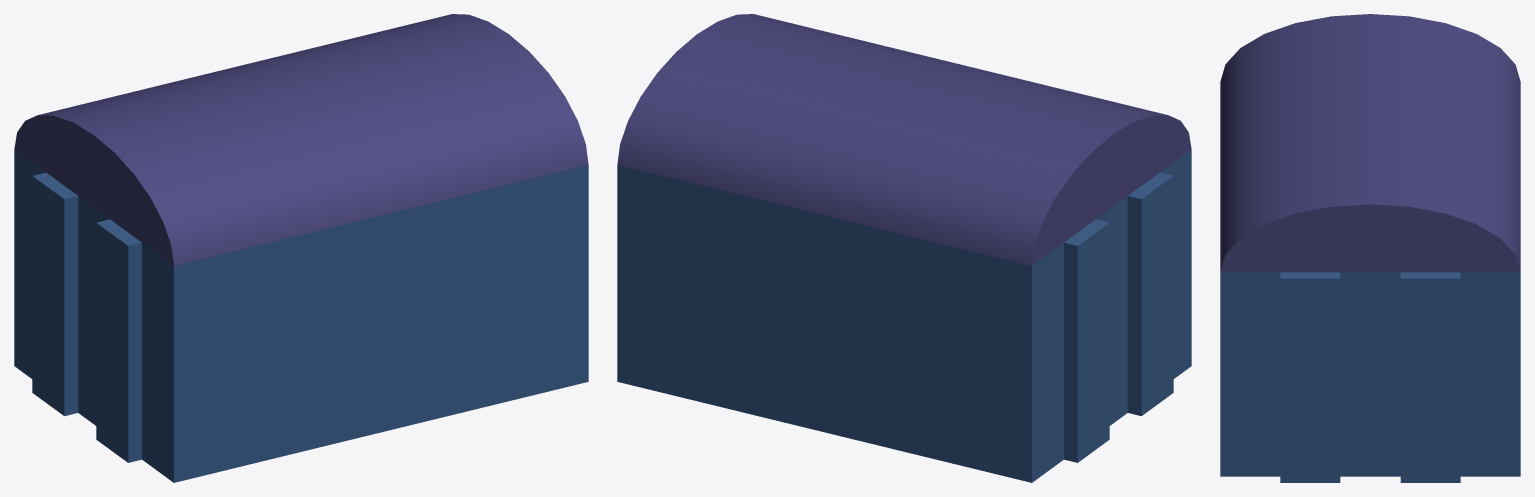
File: Dumpster.glb
The picture shows the model from 3 angles, left to right: view 1: azimuth 30°, elevation 25°; view 2: azimuth 150°, elevation 25°; view 3: azimuth 270°, elevation 25°; orthographic projection. The views are drawn at different scales.
Visible parts, largest first — view 1: Cube; view 2: Cube; view 3: Cube.
Part boxes in pixels (left/top/right/bottom): Cube: left=14, top=14, right=588, bottom=482; Cube: left=617, top=14, right=1191, bottom=482; Cube: left=1220, top=14, right=1520, bottom=482.
Bounding box in the file's own units: 3.2 × 2 × 2.
